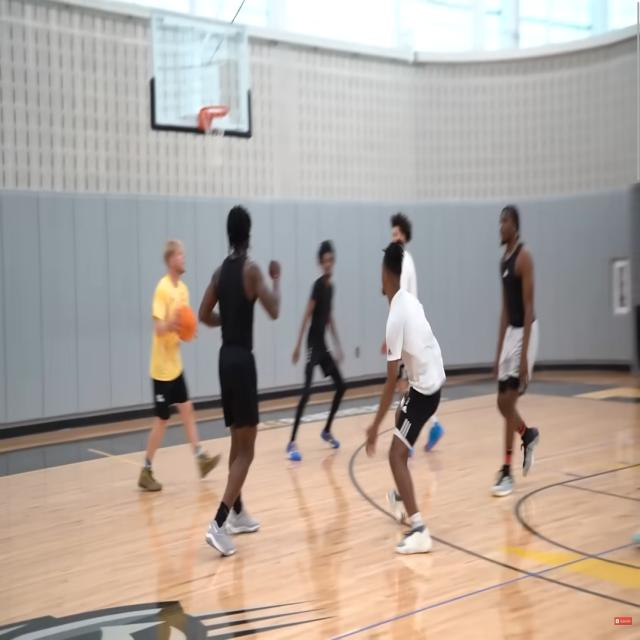Basketball: (176, 306, 195, 340)
Basketball Rim: (199, 105, 230, 164)
